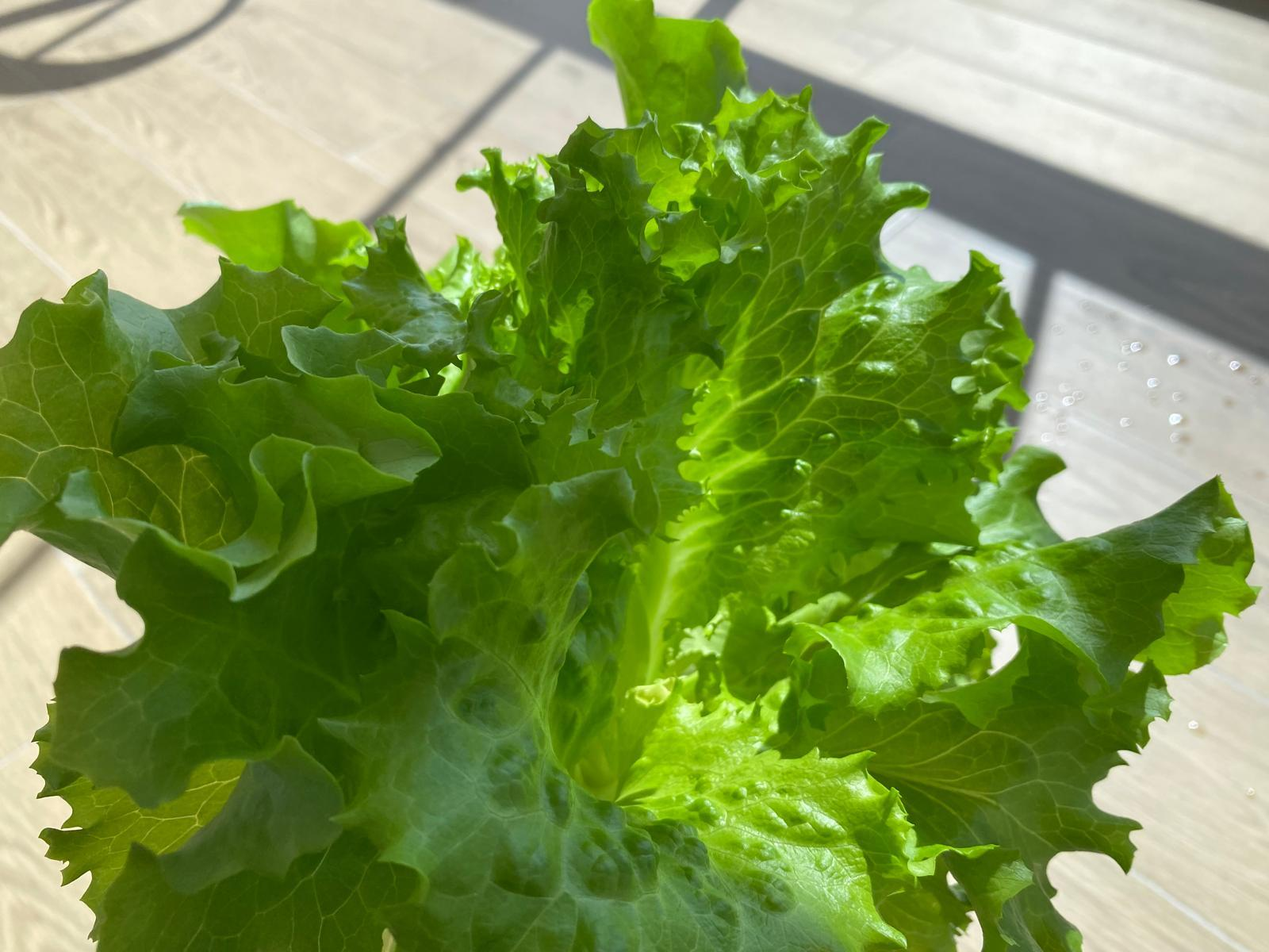Healthy: (4, 0, 1265, 952)
